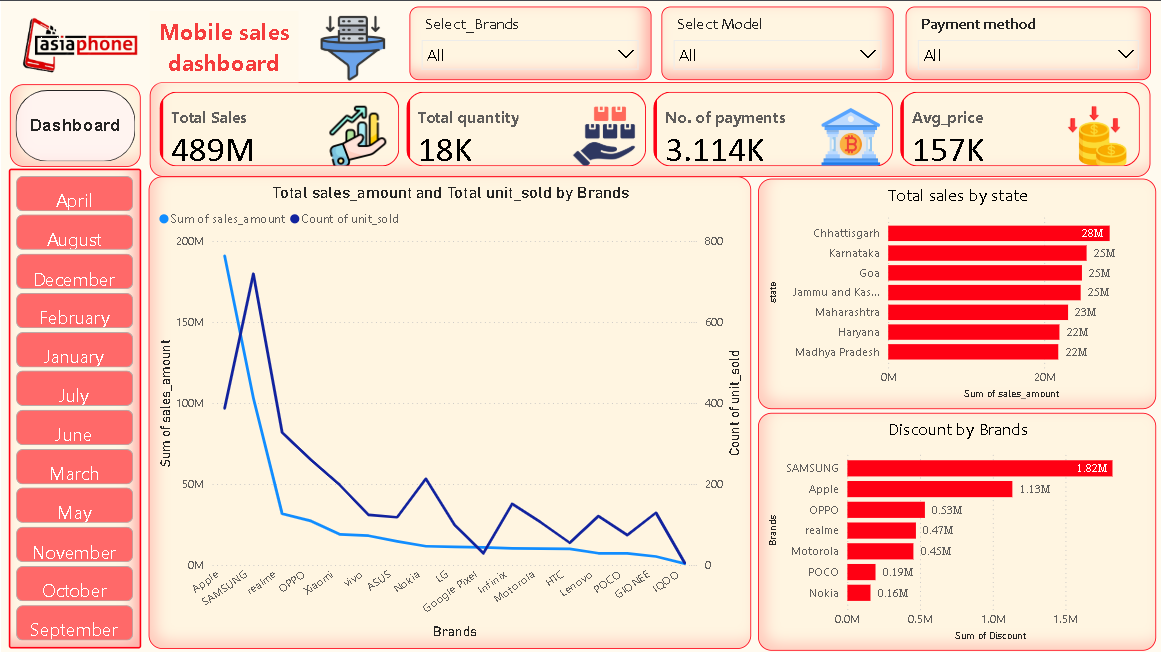

Layout of this report page (visuals, bound fields, positions):
{"tool":"powerbi","page":{"name":"reports","canvas":[1280,720],"ordinal":1},"visuals":[{"type":"image","box":[0,0,164.4,97.8],"z":0},{"type":"advancedSlicerVisual","fields":{"Values":["mobile saled data new (2).Month Name"]},"box":[8.3,185.2,145.7,528.6],"z":1000},{"type":"cardVisual","fields":{"Data":["Sum(mobile saled data new (2).sales_amount)","mobile saled data new (2).total_quantity","CountNonNull(mobile saled data new (2).Payment)","mobile saled data new (2).avg_price"]},"box":[164.4,89.5,1103,104.1],"z":2000},{"type":"slicer","fields":{"Values":["mobile saled data new (2).Brands"]},"box":[449.5,6.2,266.4,81.2],"z":3000},{"type":"slicer","fields":{"Values":["mobile saled data new (2).Mobile"]},"box":[728.4,6.2,256,81.2],"z":4000},{"type":"slicer","fields":{"Values":["mobile saled data new (2).Payment"]},"box":[996.8,6.2,270.5,81.2],"z":5000},{"type":"image","box":[345.3,11.3,84.9,81.1],"z":6000},{"type":"textbox","box":[164.4,10.4,164.4,81.2],"z":7000},{"type":"pageNavigator","box":[9.5,91.2,144.5,91.2],"z":8000},{"type":"lineChart","title":"Total sales_amount and Total unit_sold by Brands","fields":{"Category":["mobile saled data new (2).Brands"],"Y2":["CountNonNull(mobile saled data new (2).unit_sold)"],"Y":["Sum(mobile saled data new (2).sales_amount)"]},"box":[162.3,193.5,663.9,520.3],"z":9000},{"type":"clusteredBarChart","title":"Discount by Brands","fields":{"Category":["mobile saled data new (2).Brands"],"Y":["Sum(mobile saled data new (2).Discount)"]},"box":[834.5,453.7,439.1,262.2],"z":10000},{"type":"clusteredBarChart","title":"Total sales by state","fields":{"Category":["mobile saled data new (2).state"],"Y":["Sum(mobile saled data new (2).sales_amount)"]},"box":[834.5,195.6,439.1,253.9],"z":11000}]}

Visuals, with their boxes in screenshot pixels (x1, y1, x2, y2), scaled from the page's 1280x720 canvas onto the 1161x652 screenshot:
image: <bbox>0, 0, 149, 89</bbox>
advancedSlicerVisual - mobile saled data new (2).Month Name: <bbox>8, 168, 140, 646</bbox>
cardVisual - Sum(mobile saled data new (2).sales_amount) x mobile saled data new (2).total_quantity: <bbox>149, 81, 1150, 175</bbox>
slicer - mobile saled data new (2).Brands: <bbox>408, 6, 649, 79</bbox>
slicer - mobile saled data new (2).Mobile: <bbox>661, 6, 893, 79</bbox>
slicer - mobile saled data new (2).Payment: <bbox>904, 6, 1149, 79</bbox>
image: <bbox>313, 10, 390, 84</bbox>
textbox: <bbox>149, 9, 298, 83</bbox>
pageNavigator: <bbox>9, 83, 140, 165</bbox>
"Total sales_amount and Total unit_sold by Brands" lineChart: <bbox>147, 175, 749, 646</bbox>
"Discount by Brands" clusteredBarChart: <bbox>757, 411, 1155, 648</bbox>
"Total sales by state" clusteredBarChart: <bbox>757, 177, 1155, 407</bbox>
